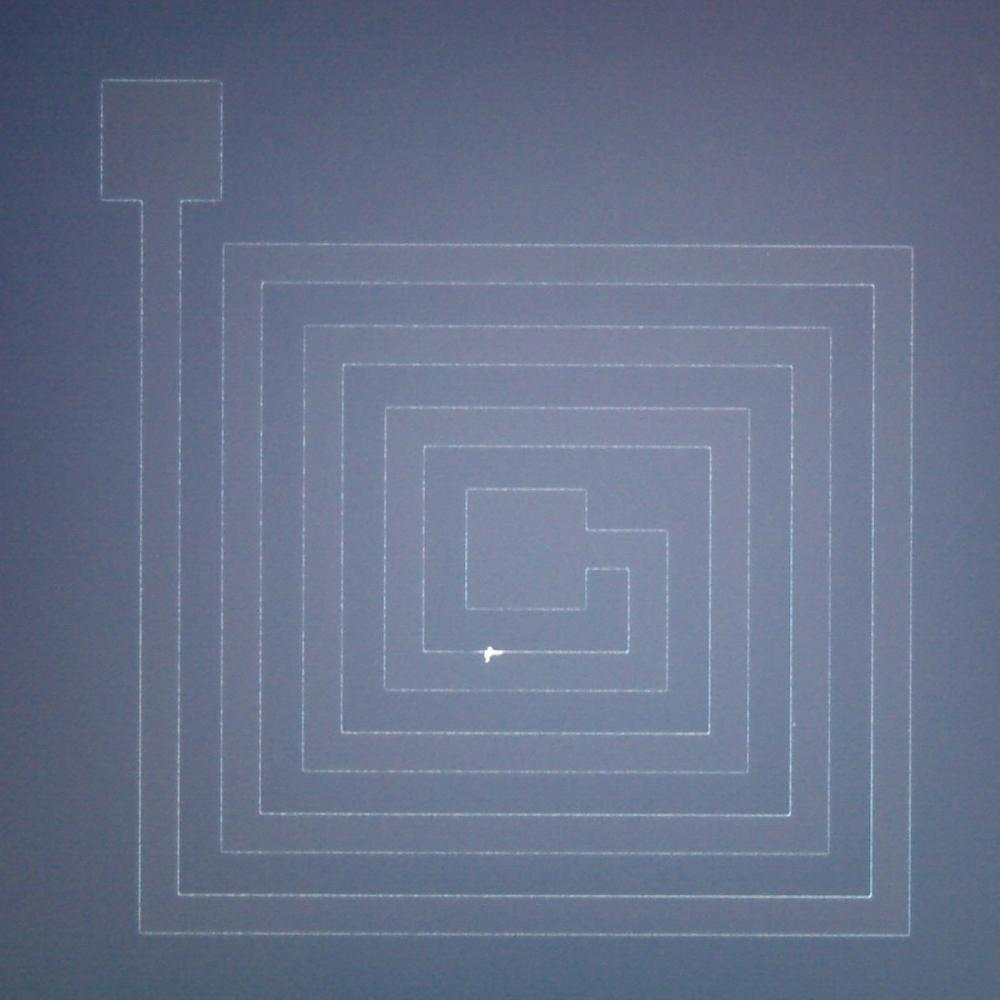dot: (484, 654, 492, 662), (793, 722, 798, 727)
